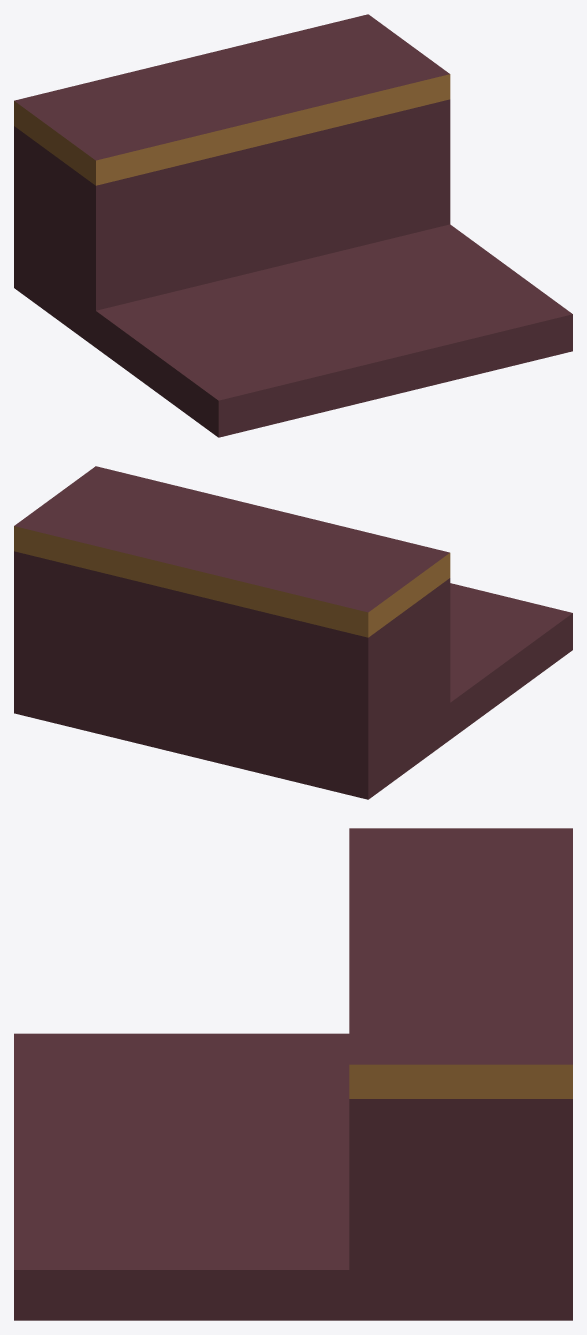
Rendered from SM_Pool_Part_Edge_1x1m_Empire.fbx.
The picture shows the model from 3 angles, top to bottom: view 1: azimuth 30°, elevation 25°; view 2: azimuth 150°, elevation 25°; view 3: azimuth 270°, elevation 25°; orthographic projection. The views are drawn at different scales.
Parts seen in each view (by area): view 1: SM_Pool_Part_Edge_1x1m_Empire; view 2: SM_Pool_Part_Edge_1x1m_Empire; view 3: SM_Pool_Part_Edge_1x1m_Empire.
Part boxes in pixels (x1,y1,x2,y2): SM_Pool_Part_Edge_1x1m_Empire: (14, 14, 572, 437); SM_Pool_Part_Edge_1x1m_Empire: (14, 466, 572, 799); SM_Pool_Part_Edge_1x1m_Empire: (14, 828, 572, 1320).
Size of the model in its own units: 1 by 0.5051 by 1.
